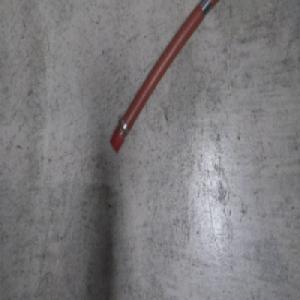Hose: (108, 0, 225, 157)
